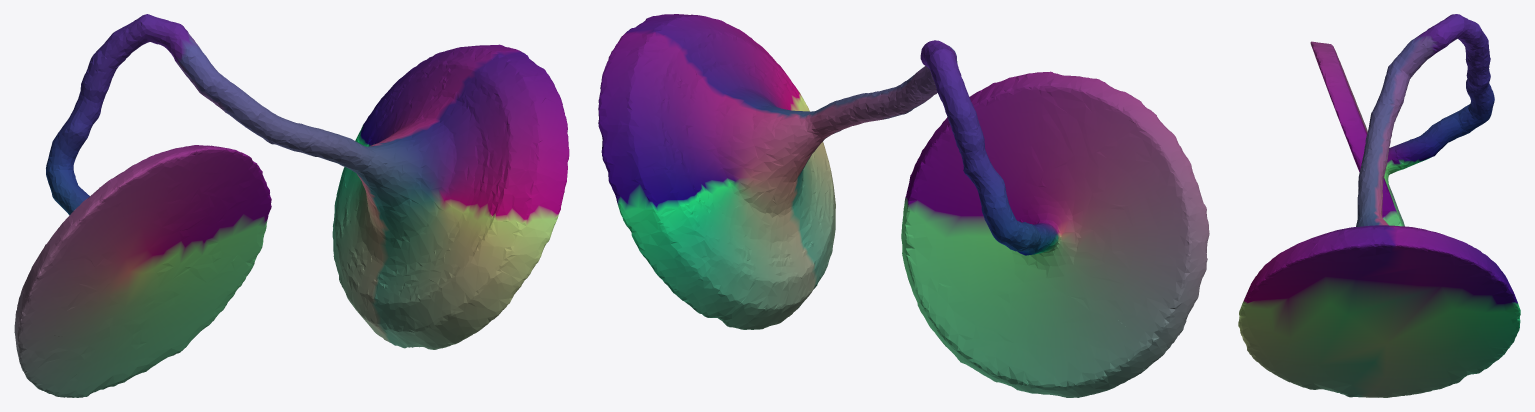
The model's file is lamp-20.off.obj.
The picture shows the model from 3 angles, left to right: view 1: azimuth 30°, elevation 25°; view 2: azimuth 150°, elevation 25°; view 3: azimuth 270°, elevation 25°; orthographic projection. The views are drawn at different scales.
Bounding box in the file's own units: 1.67 × 1.02 × 0.8694.
